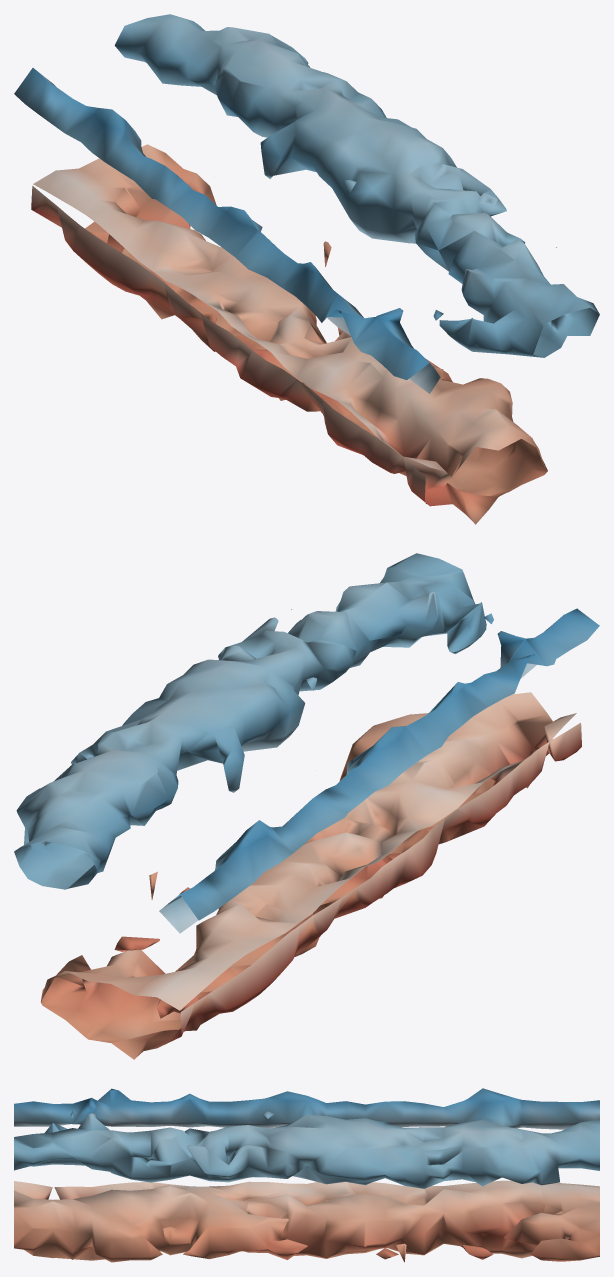
The picture shows the model from 3 angles, top to bottom: view 1: azimuth 30°, elevation 25°; view 2: azimuth 150°, elevation 25°; view 3: azimuth 270°, elevation 25°; orthographic projection. The views are drawn at different scales.
Bounding box in the file's own units: 0.8727 × 0.7781 × 2.5.
